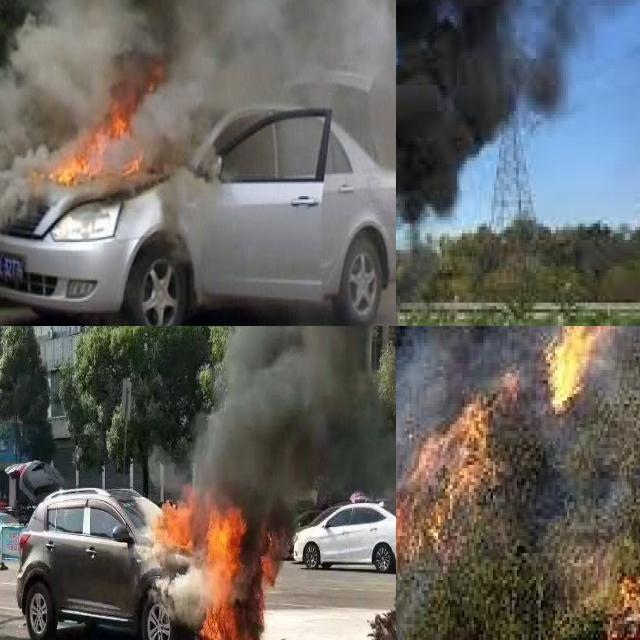fire: (14, 52, 185, 217), (396, 376, 512, 573), (159, 482, 283, 640), (540, 326, 605, 414)
smoke: (396, 0, 617, 243), (0, 0, 396, 125), (196, 326, 396, 523), (396, 332, 452, 529), (168, 570, 210, 626)
